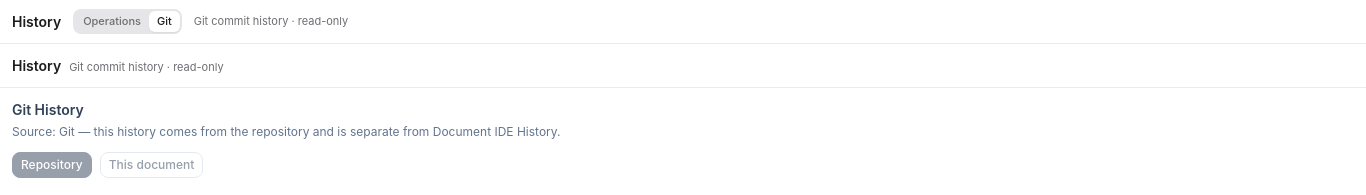
Test: HistoryScreen — HIST-04 real operation listing › an unavailable read renders the typed unavailable state, never an empty list
Click the radio button labelled "Operations" at (112, 22), box [75,11,149,32]
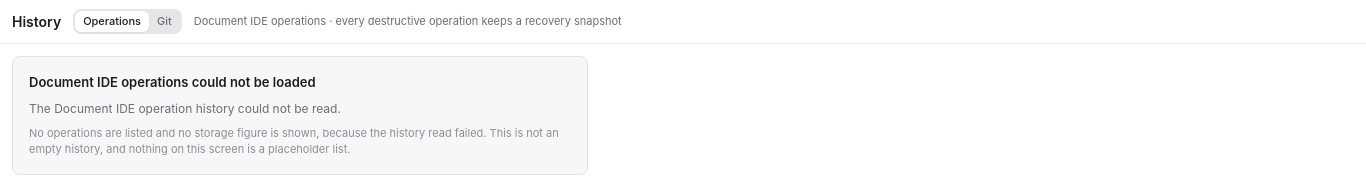
Expected: the message with test id "history-operations-unavailable" shows "could not be loaded", [29,74,316,90]
Expected: the text with test id "history-operations-unavailable-reason" reads "The Document IDE operation history could not be read.", [29,100,341,116]
